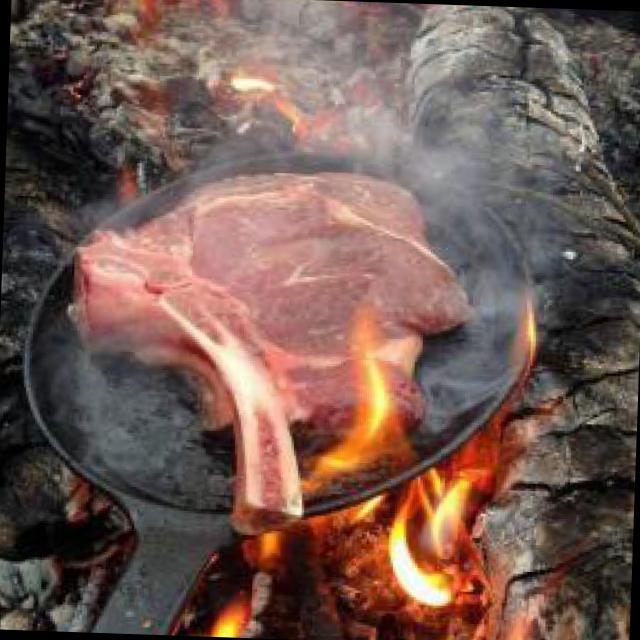fire: (161, 338, 532, 640), (94, 0, 450, 26)
smoke: (4, 0, 576, 459)
